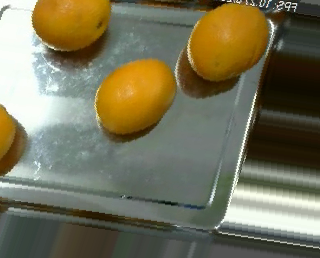Orange: (187, 1, 273, 82), (95, 57, 176, 134), (31, 1, 111, 51)
